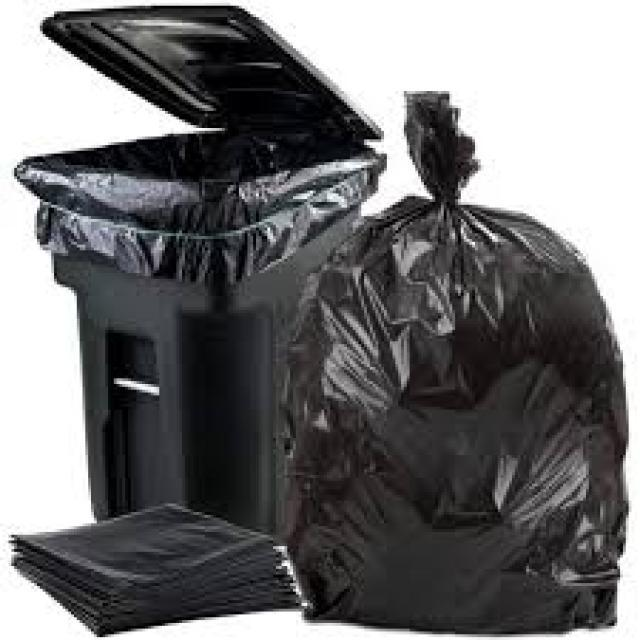Trashbag: (263, 88, 621, 634)
